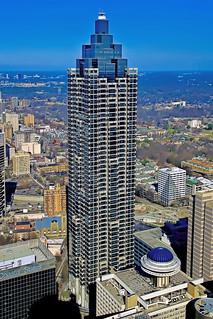building: (64, 8, 139, 279)
